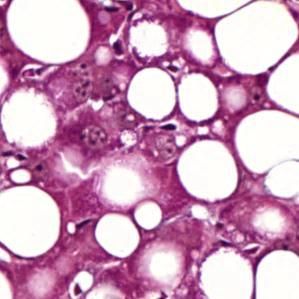steatosis: (175, 139, 240, 203), (130, 68, 181, 123), (92, 215, 146, 259)
